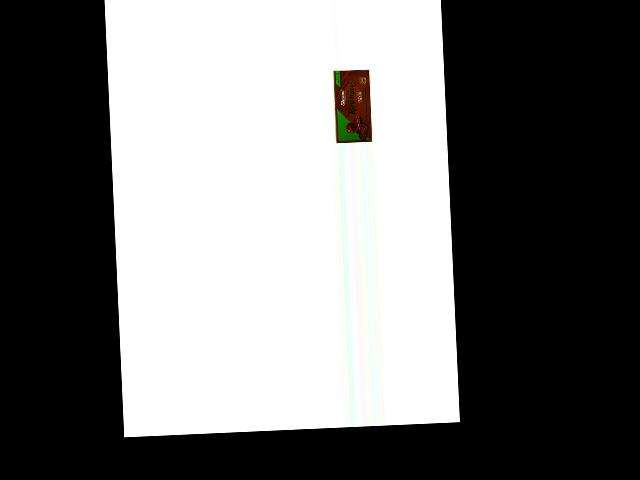chocolate: (330, 67, 373, 144)
